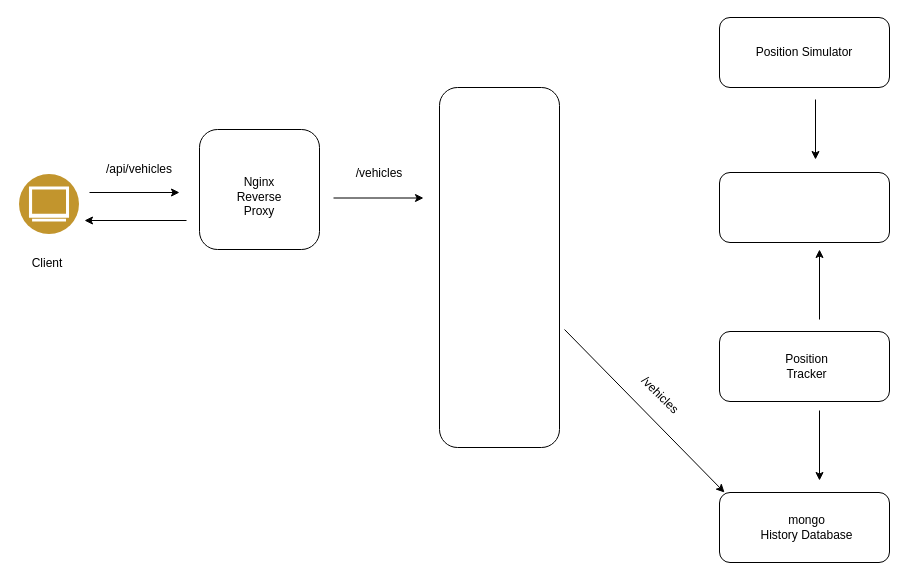
This 907x580 diagram has some shape labels left out. The shapes that lost their labels are listed below. From the top down, each one's centre as x and y in pixels, then its label:
At (804,207): "Active Mq".
At (499,267): "API Gateway".
